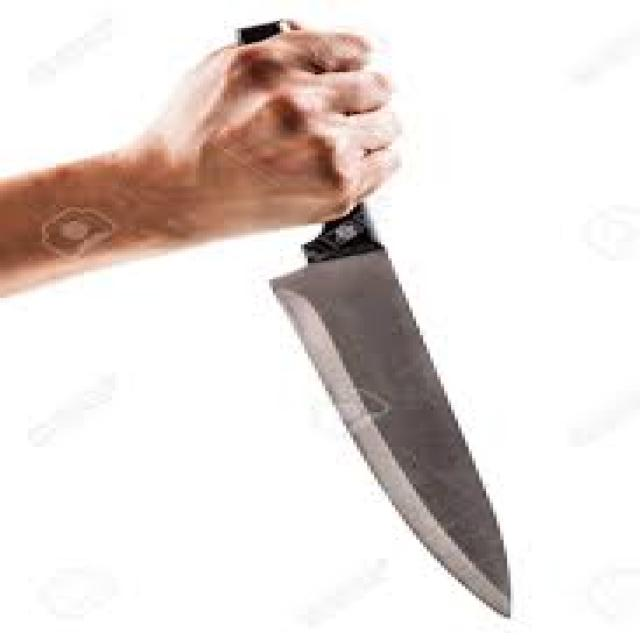Knife: (230, 16, 510, 617)
